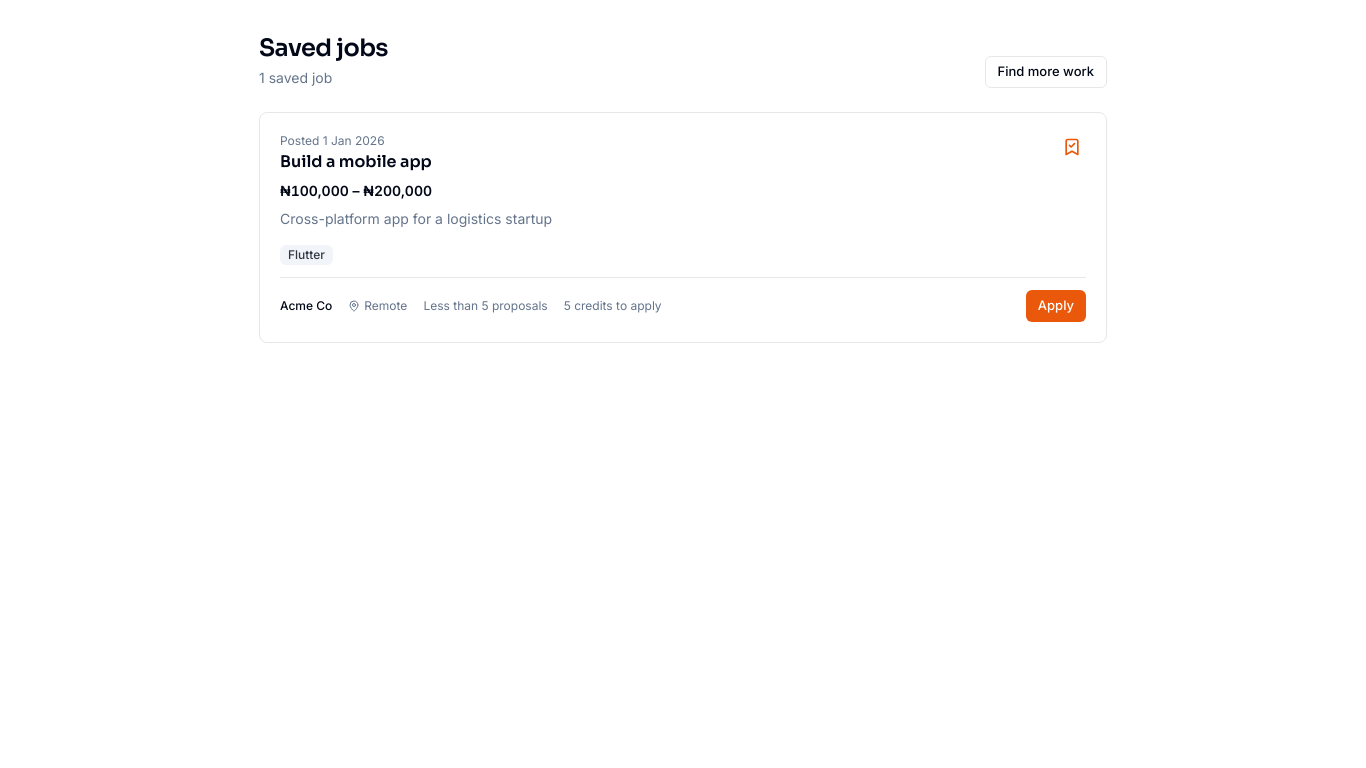
Scenario: SavedJobs › applies through the shared proposal flow
Click the button "Apply": (1056,306) x1=1026 y1=290 x2=1086 y2=322
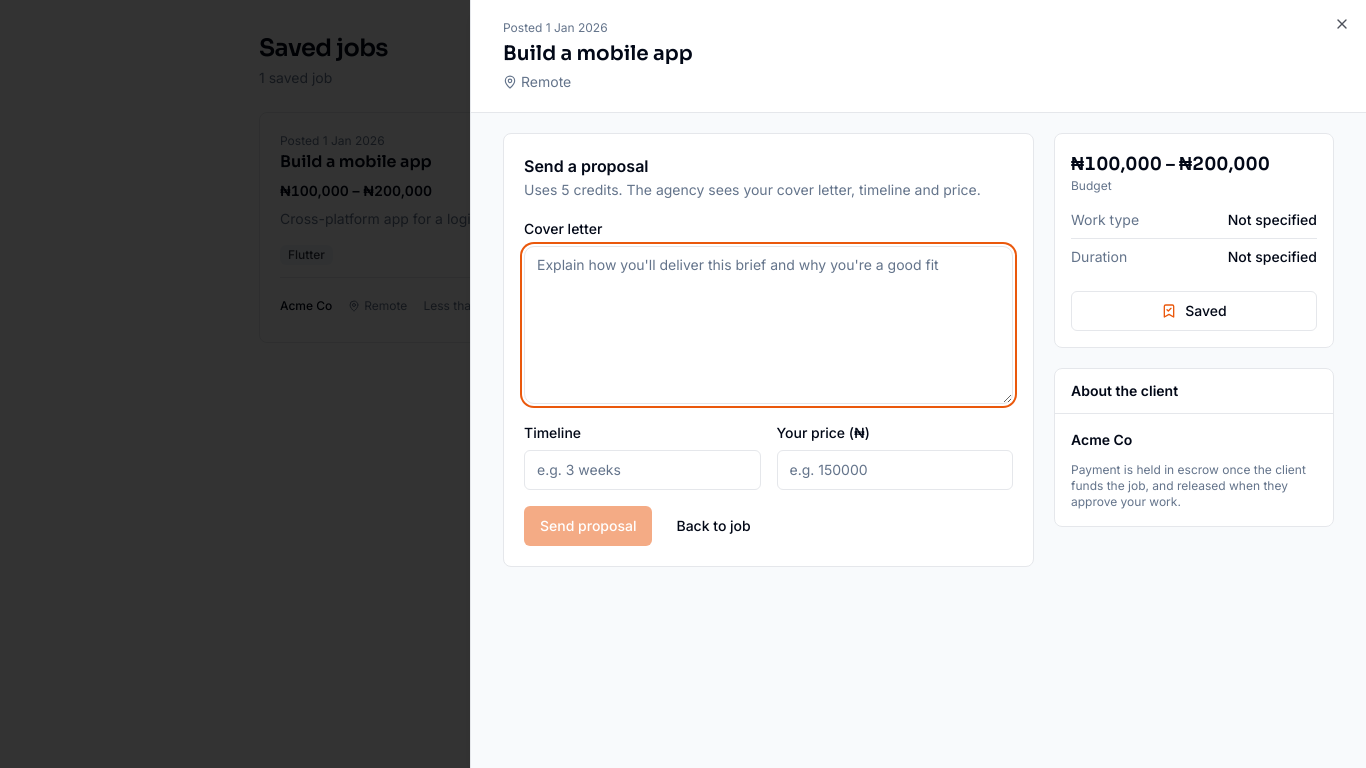
Expected: the text box named "Your proposal" is shown, x1=524 y1=246 x2=1013 y2=404
